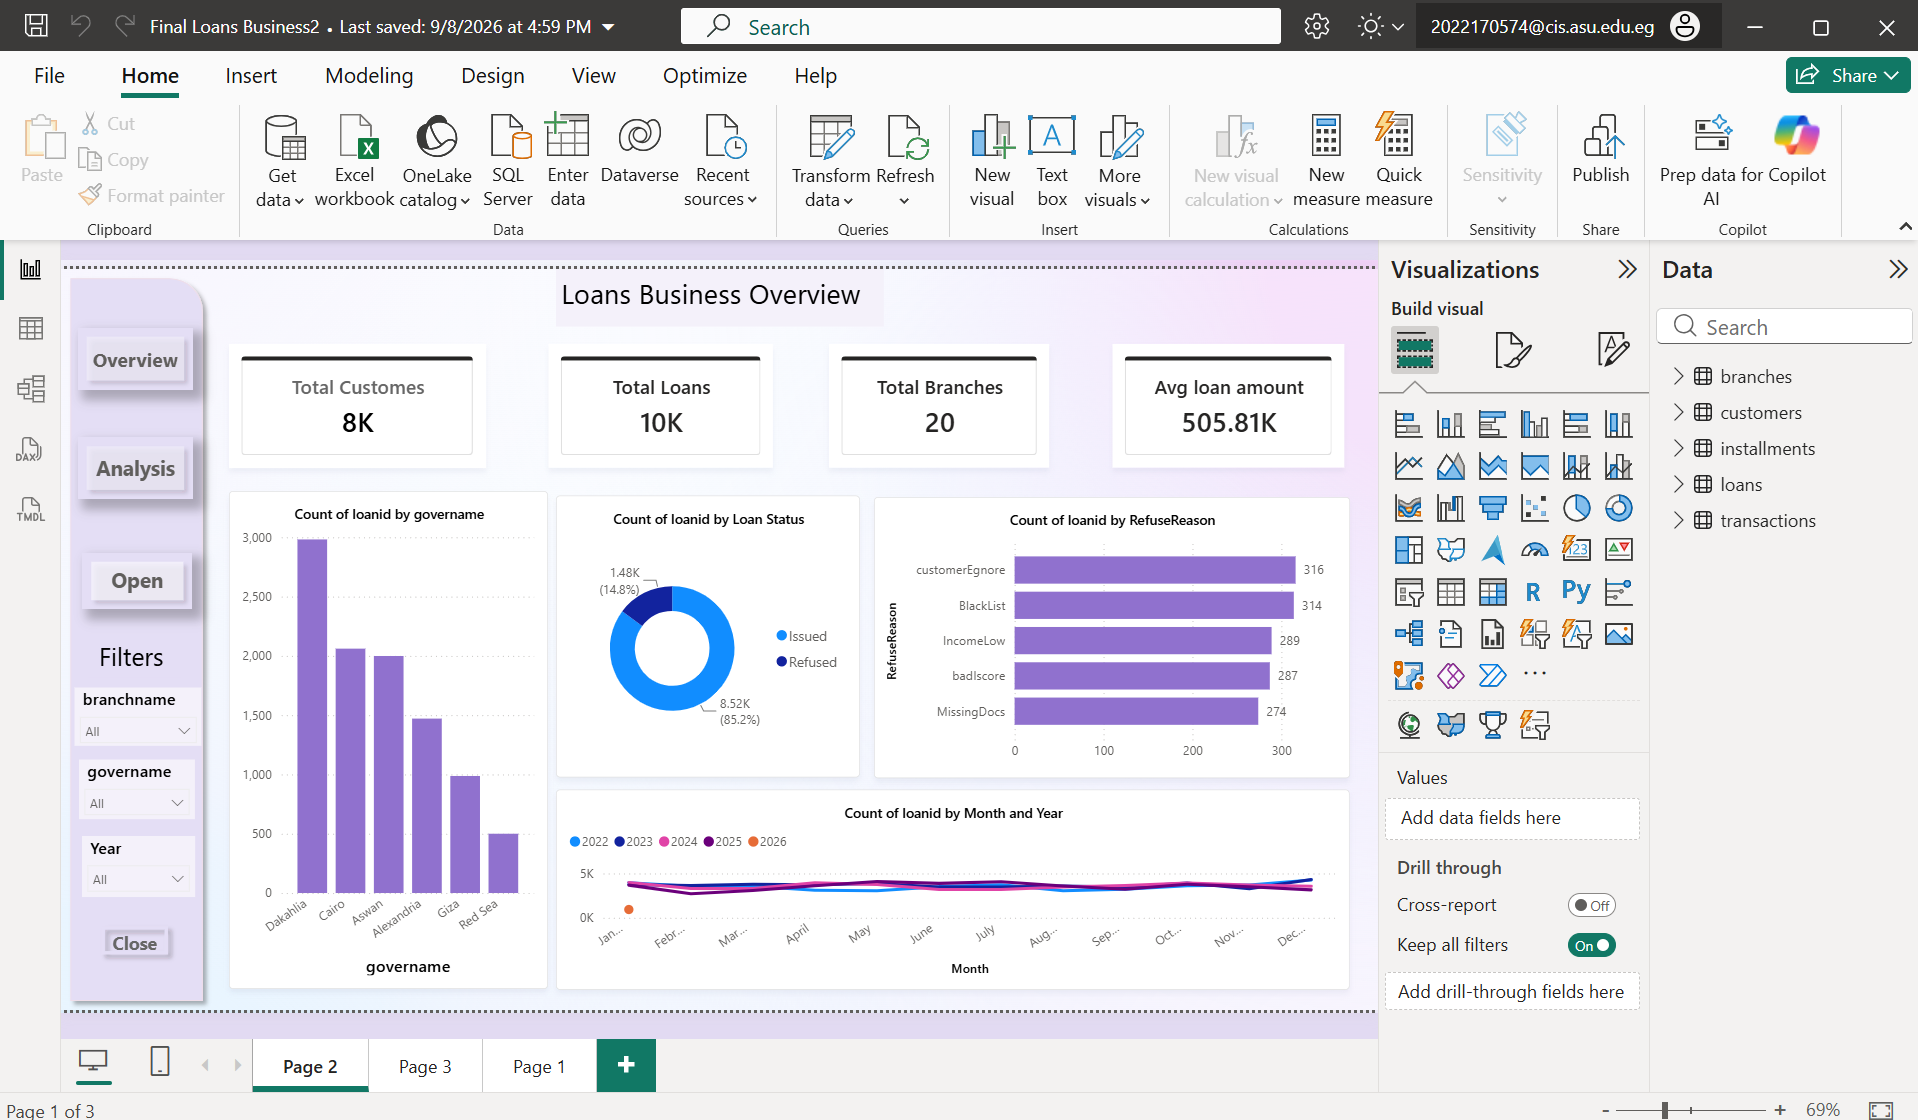

The page's visual inventory and layout, read from the dashboard file:
{"tool":"powerbi","page":{"name":"Page 2","canvas":[1280,720],"ordinal":0},"visuals":[{"type":"textbox","box":[27.4,354.1,90.6,42.6],"z":0,"group":"g1"},{"type":"lineChart","fields":{"Category":["loans.Applydate.Variation.Date Hierarchy.Month"],"Series":["loans.Applydate.Variation.Date Hierarchy.Year"],"Y":["CountNonNull(installments.loanid)"]},"box":[481.3,506.1,771.5,194.7],"z":0},{"type":"donutChart","fields":{"Category":["loans.Loan Status"],"Y":["CountNonNull(loans.loanid)"]},"box":[481.3,219.4,295.5,274.3],"z":1000},{"type":"slicer","fields":{"Values":["loans.Applydate.Variation.Date Hierarchy.Year"]},"box":[20.6,550.2,109.8,59.3],"z":1000,"group":"g1"},{"type":"clusteredColumnChart","fields":{"Category":["branches.govername","branches.branchname"],"Y":["CountNonNull(loans.loanid)"]},"box":[163.8,215.9,310.1,484.1],"z":2000},{"type":"slicer","fields":{"Values":["branches.govername"]},"box":[17.8,476.7,112.5,58.1],"z":2000,"group":"g1"},{"type":"clusteredBarChart","fields":{"Category":["loans.RefuseReason","customers.gender","customers.Age","customers.phonenumber"],"Y":["CountNonNull(loans.loanid)"]},"box":[790.5,220.9,462.5,273.1],"z":3000},{"type":"slicer","fields":{"Values":["branches.branchname"]},"box":[13.7,407,123.5,56.8],"z":3000,"group":"g1"},{"type":"cardVisual","fields":{"Data":["branches.Total Customes"]},"box":[163.3,72.7,249.8,120.8],"z":4000},{"type":"cardVisual","fields":{"Data":["branches.Total Loans"]},"box":[473.5,72.7,218.2,120.8],"z":5000},{"type":"textbox","box":[481.7,0,318.4,56.3],"z":6000},{"type":"cardVisual","fields":{"Data":["branches.Total Branches"]},"box":[746.5,72.7,214.1,120.8],"z":7000},{"type":"cardVisual","fields":{"Data":["branches.Avg loan amount"]},"box":[1022.4,72.7,225.1,120.8],"z":8000},{"type":"shape","box":[0,0,146.8,720.5],"z":9000},{"type":"group","id":"g1","title":"Filters Panel","box":[13.7,354.1,123.5,319.8],"z":10000},{"type":"actionButton","box":[20,276.3,107.4,55.3],"z":11000},{"type":"actionButton","box":[16.5,163.3,112.5,60.4],"z":12000},{"type":"actionButton","box":[16.5,56.3,112.5,60.4],"z":13000},{"type":"actionButton","box":[30.5,630.1,82.3,45.2],"z":14000,"group":"g1"}]}

Visuals, with their boxes on the page's 1280x720 design canvas (x1, y1, x2, y2). These are canvas units, not pixel positions in the 1918x1120 screenshot, which may show the page scaled, cropped or inside an application window:
textbox: 27,354,118,397
lineChart - loans.Applydate.Variation.Date Hierarchy.Month x loans.Applydate.Variation.Date Hierarchy.Year: 481,506,1253,701
donutChart - loans.Loan Status x CountNonNull(loans.loanid): 481,219,777,494
slicer - loans.Applydate.Variation.Date Hierarchy.Year: 21,550,130,610
clusteredColumnChart - branches.govername x branches.branchname: 164,216,474,700
slicer - branches.govername: 18,477,130,535
clusteredBarChart - loans.RefuseReason x customers.gender: 790,221,1253,494
slicer - branches.branchname: 14,407,137,464
cardVisual - branches.Total Customes: 163,73,413,194
cardVisual - branches.Total Loans: 474,73,692,194
textbox: 482,0,800,56
cardVisual - branches.Total Branches: 746,73,961,194
cardVisual - branches.Avg loan amount: 1022,73,1248,194
shape: 0,0,147,720
"Filters Panel" group: 14,354,137,674
actionButton: 20,276,127,332
actionButton: 16,163,129,224
actionButton: 16,56,129,117
actionButton: 30,630,113,675
